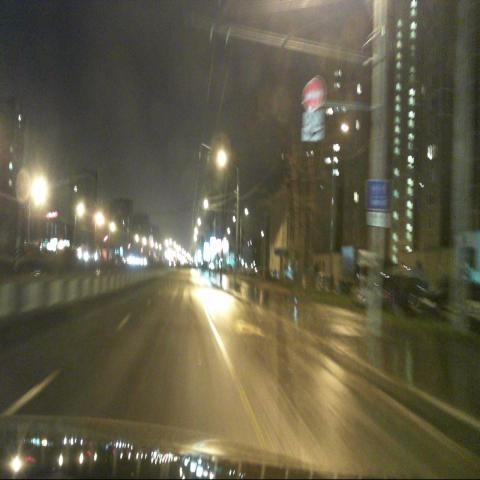3_1: (303, 78, 322, 110)
